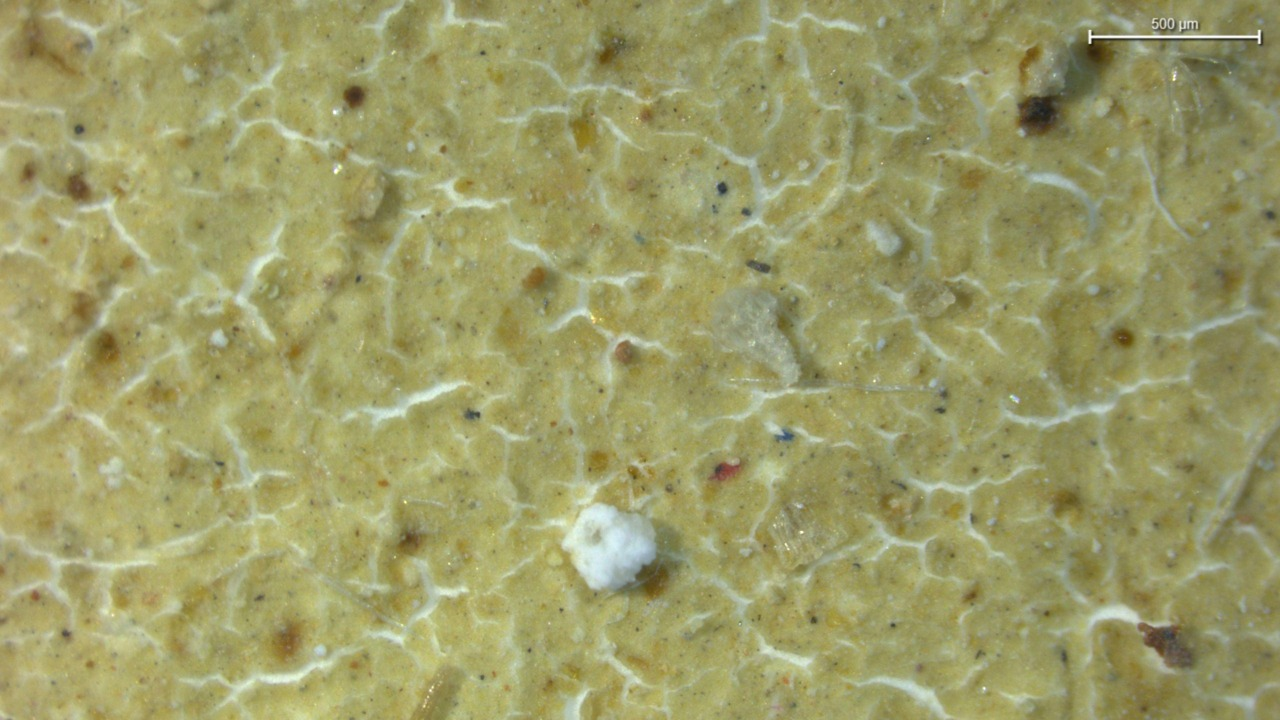microplastic_fragment: (710, 284, 802, 386), (562, 503, 657, 599), (1029, 36, 1070, 98)
